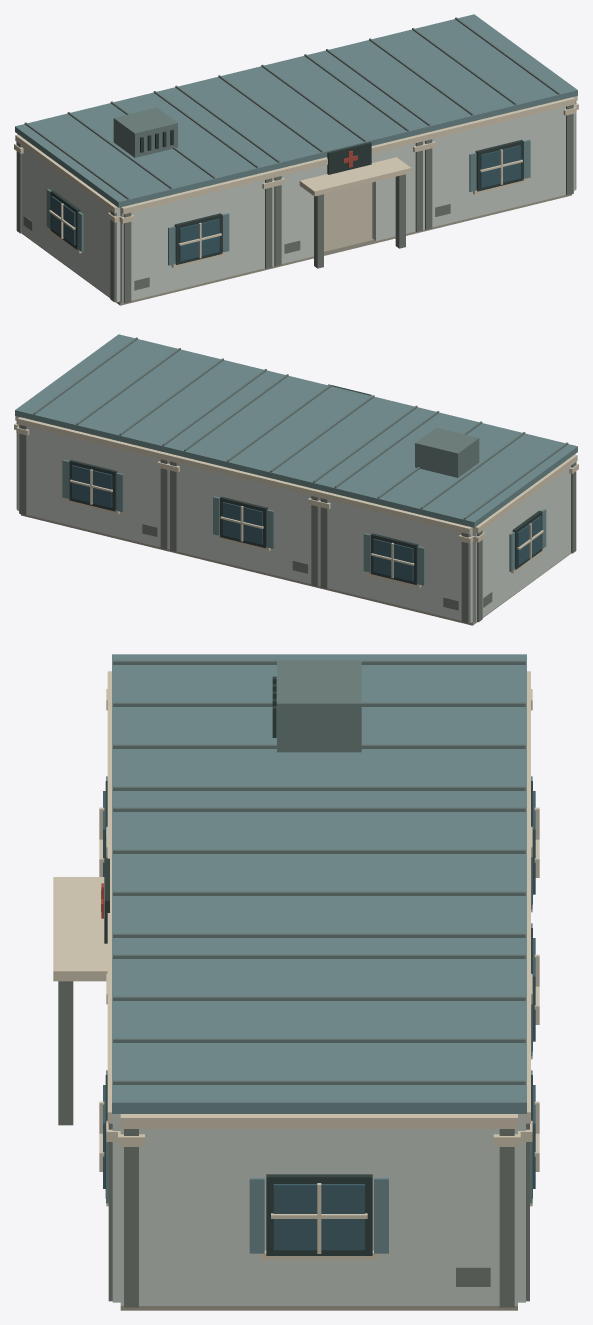
File: FSA_ENV_Protected_07_MedicalStation.glb
3 renders of one model, top to bottom at view 1: azimuth 30°, elevation 25°; view 2: azimuth 150°, elevation 25°; view 3: azimuth 270°, elevation 25°, orthographic. The views are drawn at different scales.
Parts seen in each view (by area): view 1: FlatRoof_166, FlatRoof_104, FlatRoof_55, Wall_1, Wall_115, Wall_2, Wall_116, Floor_74, Wall_39, Wall_75, Wall_76, Wall_38 (+42 smaller); view 2: FlatRoof_166, FlatRoof_104, FlatRoof_55, Wall_21, Wall_88, Wall_149, Wall_87, Wall_22, Wall_150, Wall_38, Wall_39, RoofPlant_60 (+42 smaller); view 3: FlatRoof_166, FlatRoof_104, FlatRoof_55, Wall_133, Wall_132, RoofPlant_60, Cornice_136, Glass_142, PorchCanopy_179, Wall_134, Wall_135, WindowFrame_141 (+22 smaller).
Boxes of the visible parts, x1,y1,x2,y2 form: FlatRoof_166: (318,14,577,132); FlatRoof_104: (166,51,427,170); FlatRoof_55: (15,89,276,207); Wall_1: (120,201,176,302); Wall_115: (423,128,478,229); Wall_2: (218,178,272,279); Wall_116: (519,105,573,205); Floor_74: (271,185,421,268); Wall_39: (79,187,120,302); Wall_75: (273,166,320,266); Wall_76: (372,141,423,240); Wall_38: (22,146,55,256); FlatRoof_166: (15,334,275,452); FlatRoof_104: (165,371,426,490); FlatRoof_55: (316,409,577,527); Wall_21: (416,521,472,622); Wall_88: (169,461,224,562); Wall_149: (114,448,169,549); Wall_87: (265,485,319,586); Wall_22: (320,498,374,599); Wall_150: (19,425,73,525); Wall_38: (472,507,513,622); Wall_39: (537,466,570,576); RoofPlant_60: (415,427,479,477); FlatRoof_166: (112,948,526,1113); FlatRoof_104: (112,801,526,953); FlatRoof_55: (112,654,526,808); Wall_133: (120,1129,271,1305); Wall_132: (366,1129,517,1305); RoofPlant_60: (277,661,361,752); Cornice_136: (120,1114,517,1128); Glass_142: (273,1184,364,1250); PorchCanopy_179: (53,877,107,981); Wall_134: (272,1260,366,1305); Wall_135: (272,1129,366,1174); WindowFrame_141: (266,1174,372,1255).
Size of the model in its own units: 21.86 by 5.79 by 9.78.
